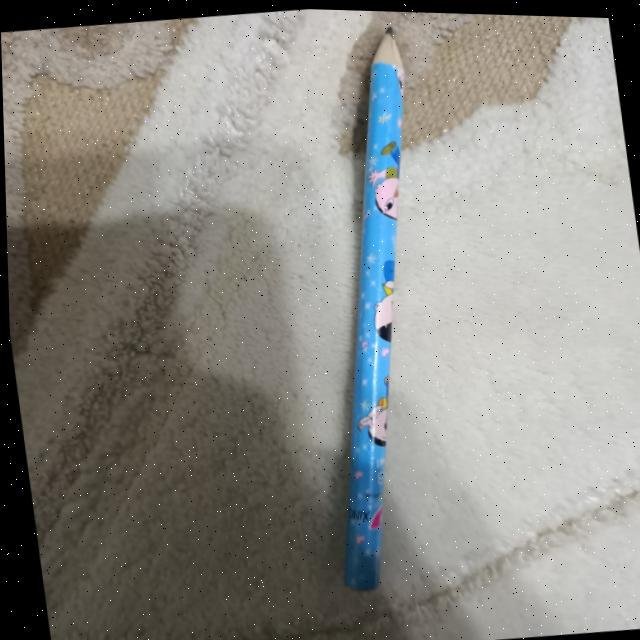pencil: (340, 24, 403, 588)
